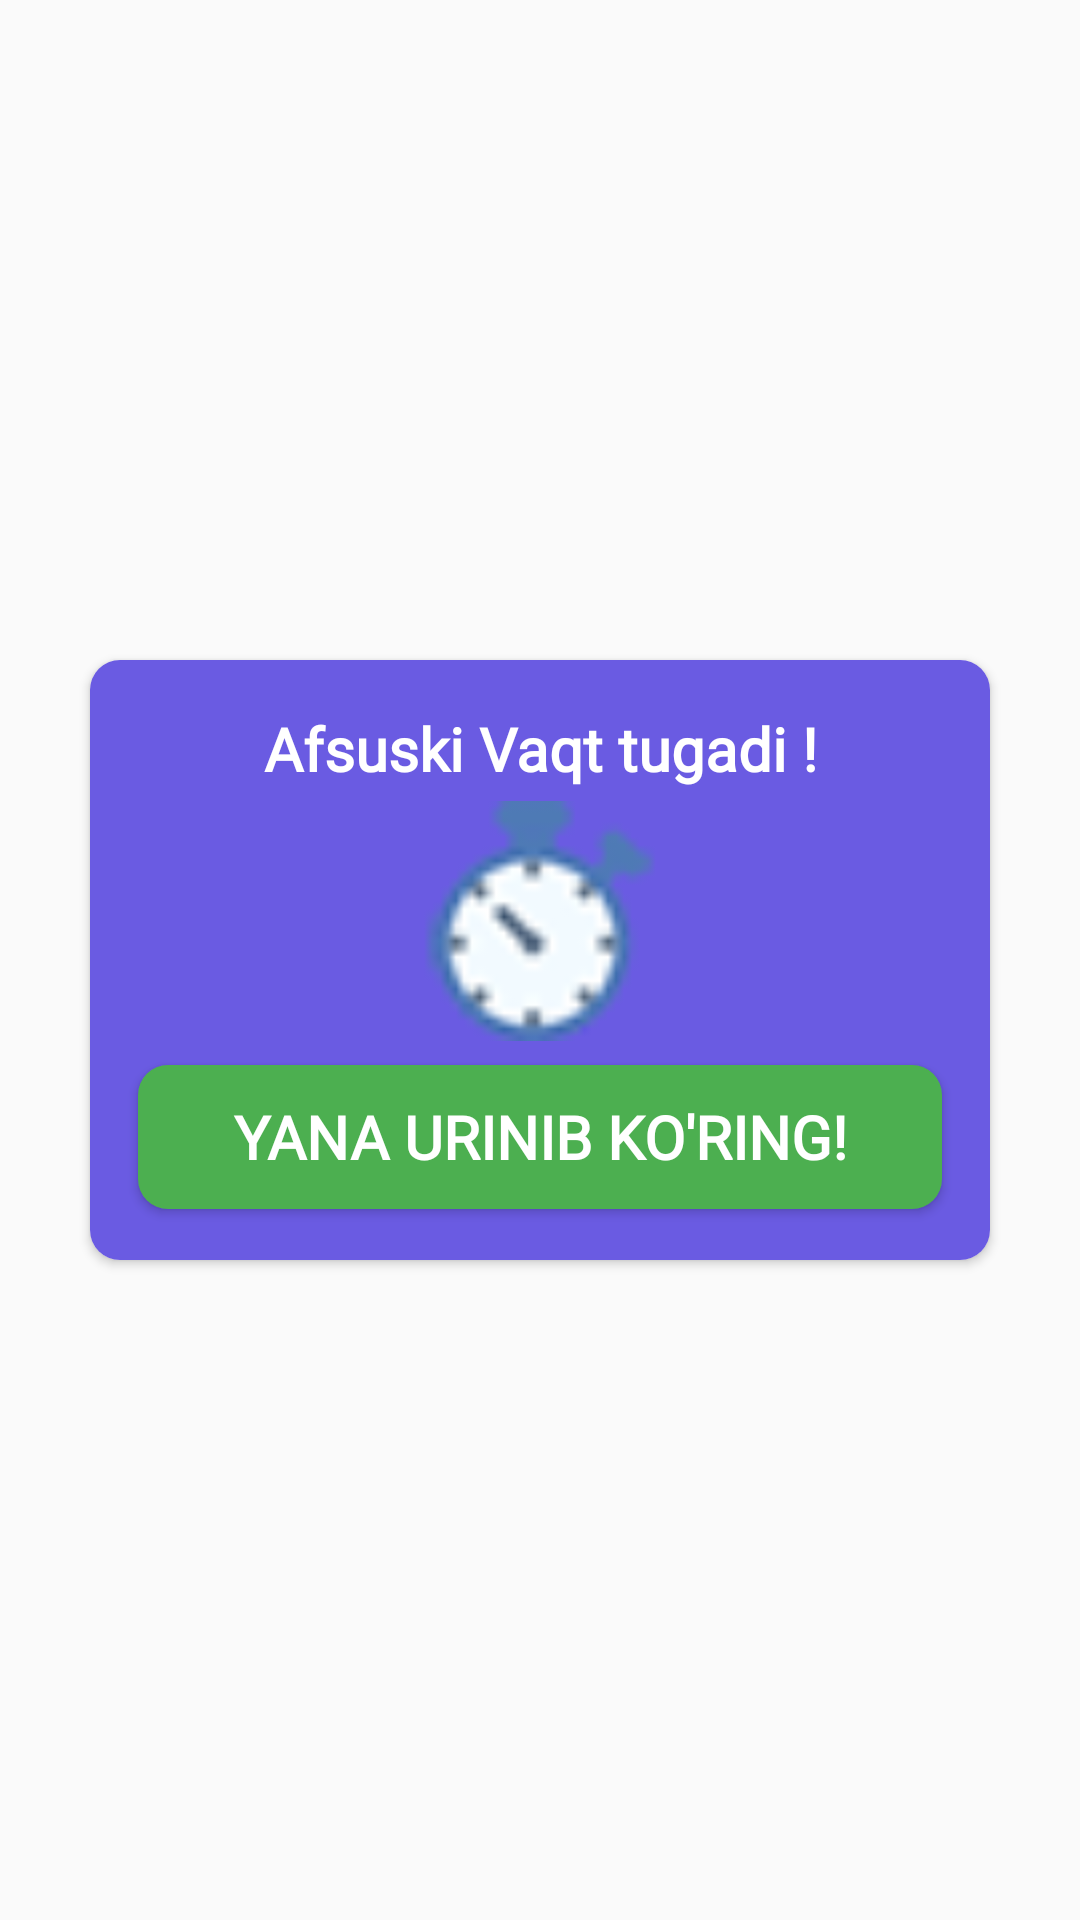

Screen size 1080x1920. Icon name, then its box in pixels as (x1, y1, x2, y2):
stopwatch: (430, 801, 650, 1041)
